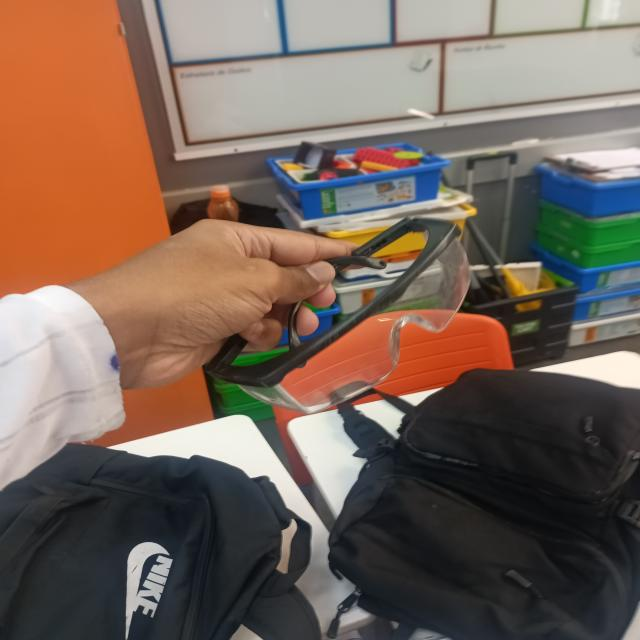oculos-epi: (207, 217, 471, 415)
